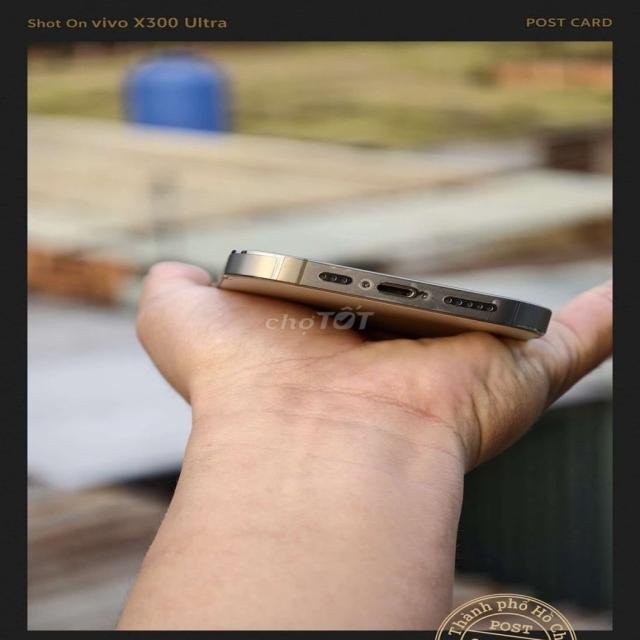gen_14: (198, 239, 572, 361)
physical_damage: (511, 317, 552, 344), (217, 269, 263, 284)
scratch: (405, 279, 442, 313), (307, 258, 366, 277), (352, 273, 373, 291), (485, 298, 502, 310)
